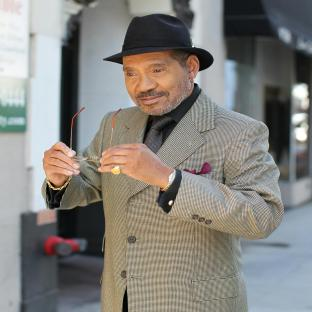Human: (42, 14, 283, 312)
